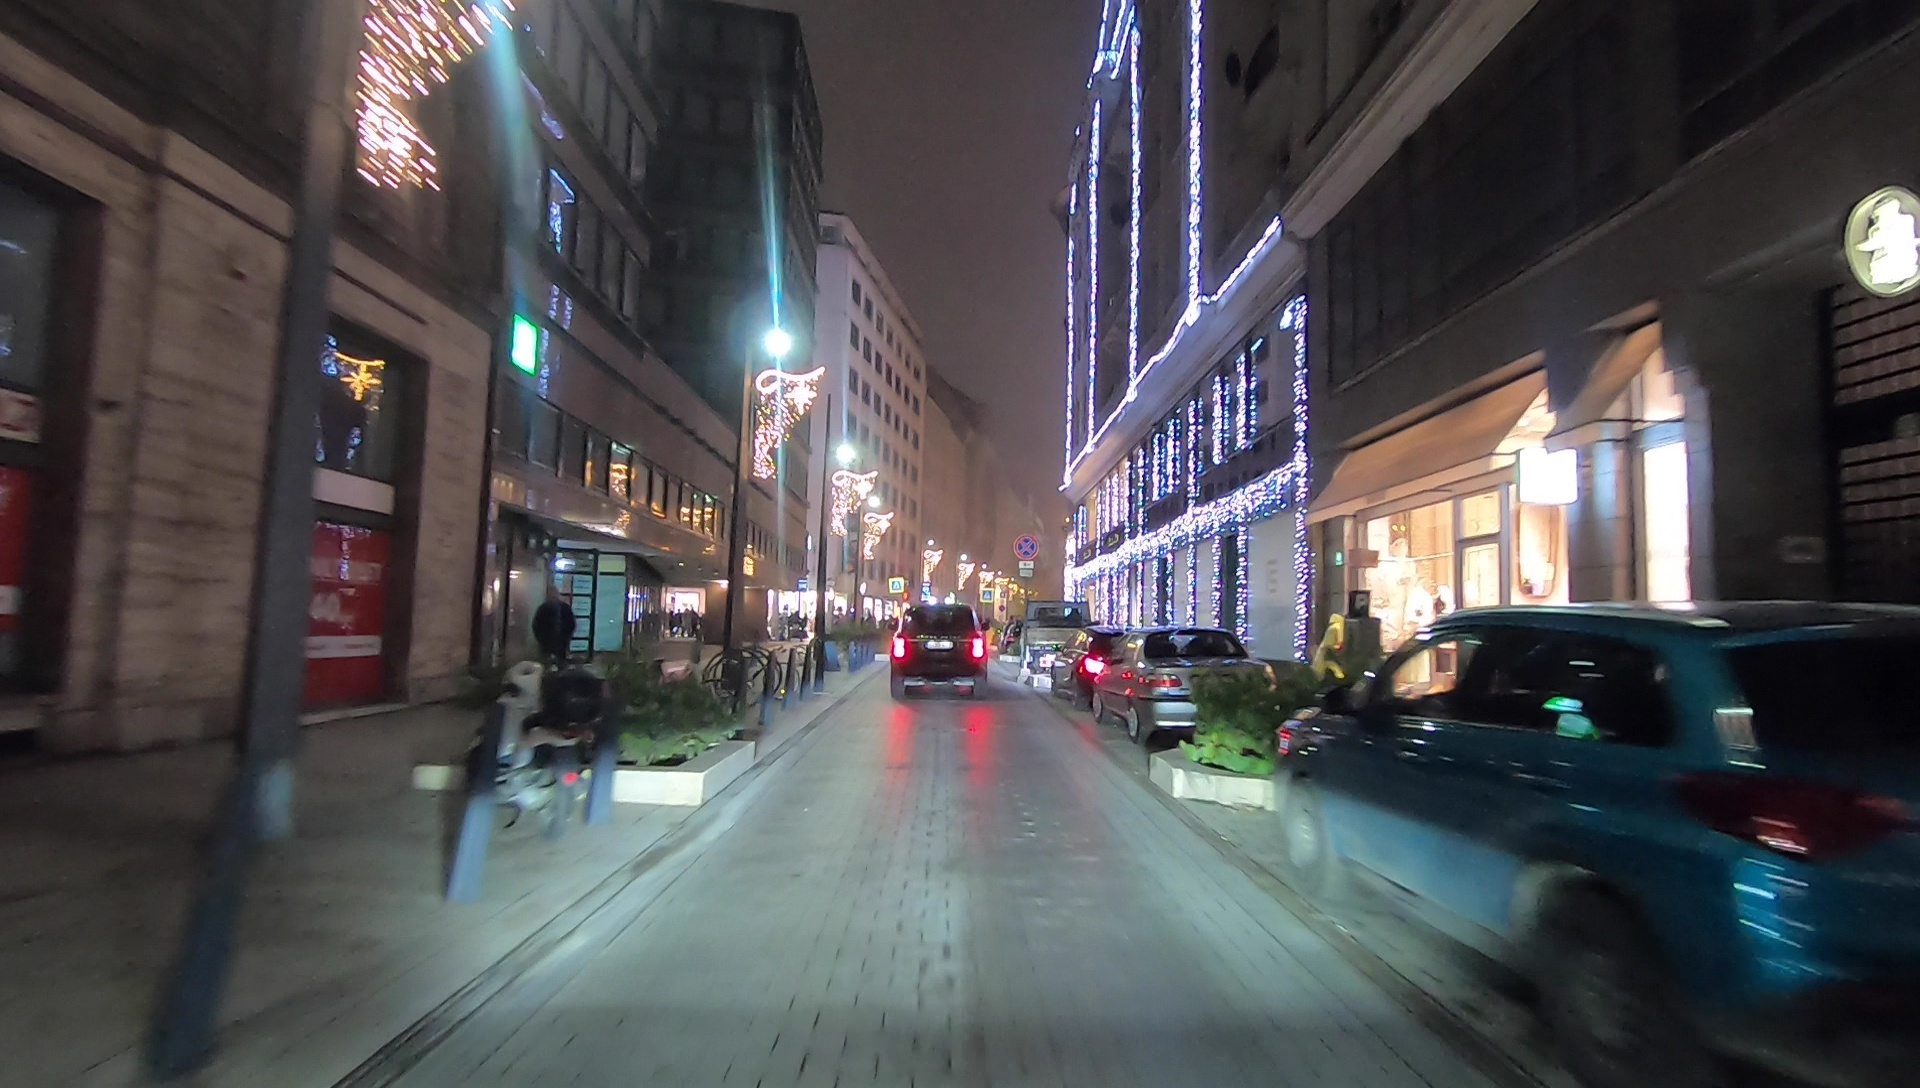person: (532, 589, 573, 700)
